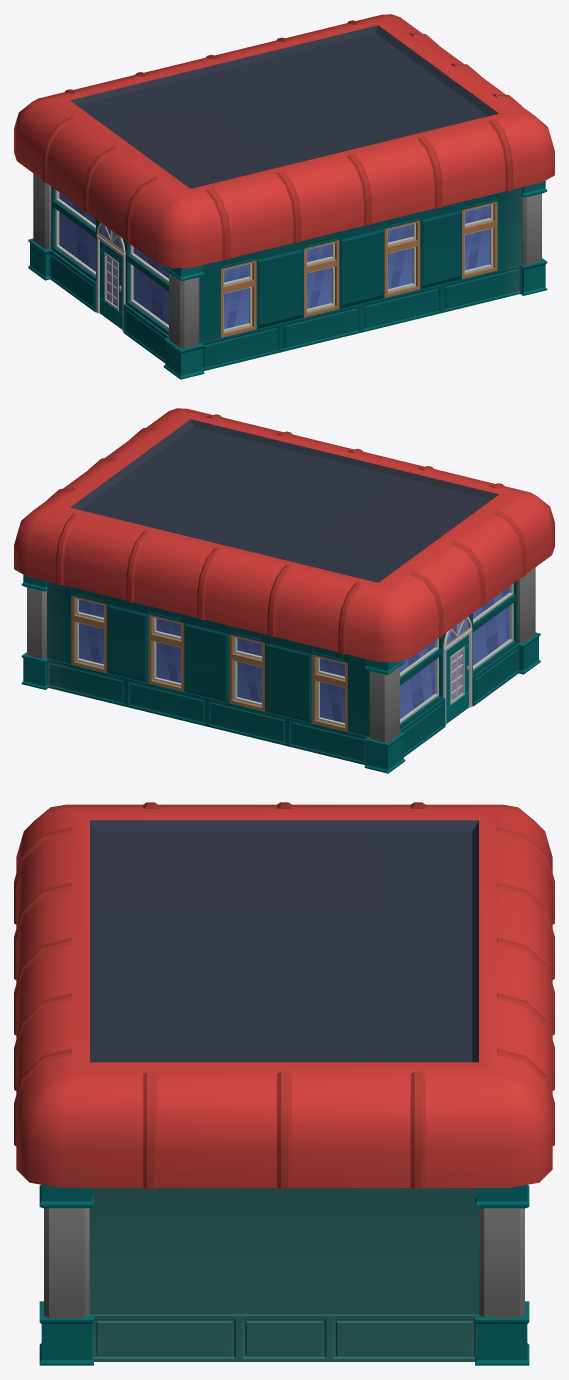
Rendered from Building_12_C.fbx.
The picture shows the model from 3 angles, top to bottom: view 1: azimuth 30°, elevation 25°; view 2: azimuth 150°, elevation 25°; view 3: azimuth 270°, elevation 25°; orthographic projection. The views are drawn at different scales.
Parts seen in each view (by area): view 1: Building_12_C; view 2: Building_12_C; view 3: Building_12_C.
Boxes of the visible parts, <box> form: Building_12_C: <box>14,14,554,379</box>; Building_12_C: <box>14,408,554,773</box>; Building_12_C: <box>14,802,554,1365</box>.
Size of the model in its own units: 1053 by 440 by 770.
